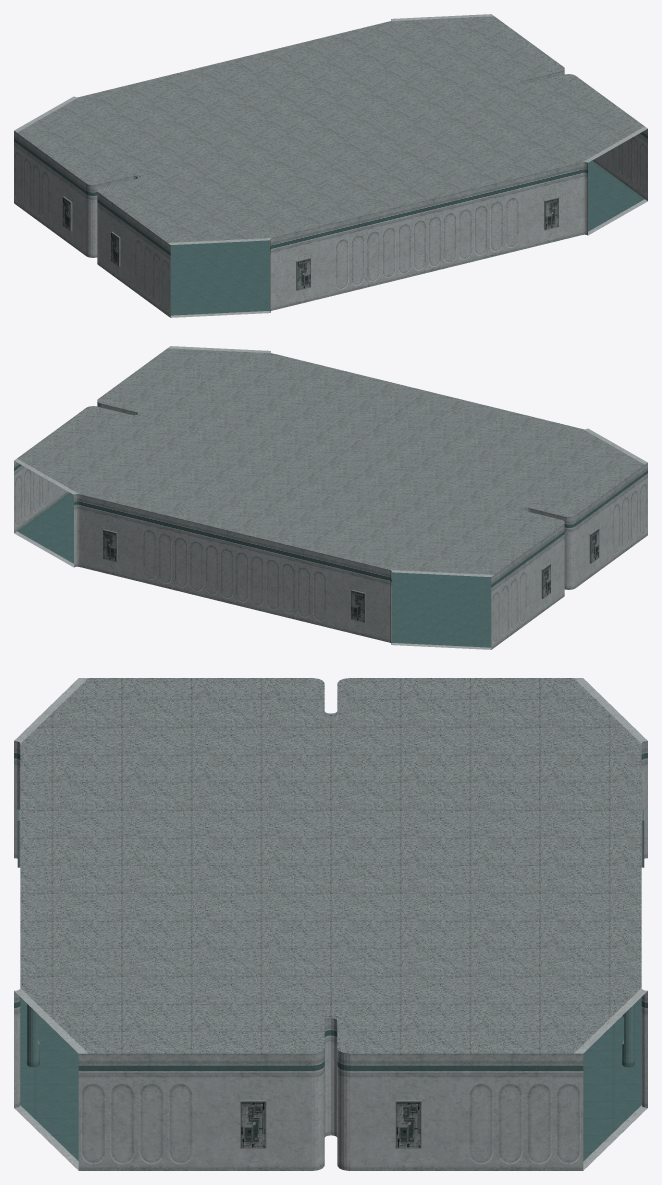
File: mun_nboo_hospital_s02_r2_mainroom_mesh.fbx
3 views of the same model, one above another, from view 1: azimuth 30°, elevation 25°; view 2: azimuth 150°, elevation 25°; view 3: azimuth 270°, elevation 25° (orthographic). The views are drawn at different scales.
Parts seen in each view (by area): view 1: mesh_node; view 2: mesh_node; view 3: mesh_node.
Part boxes in pixels (x1,y1,x2,y2): mesh_node: (14,14,647,317); mesh_node: (14,346,647,649); mesh_node: (14,678,647,1170).
Bounding box in the file's own units: 34.55 × 5 × 24.5.
